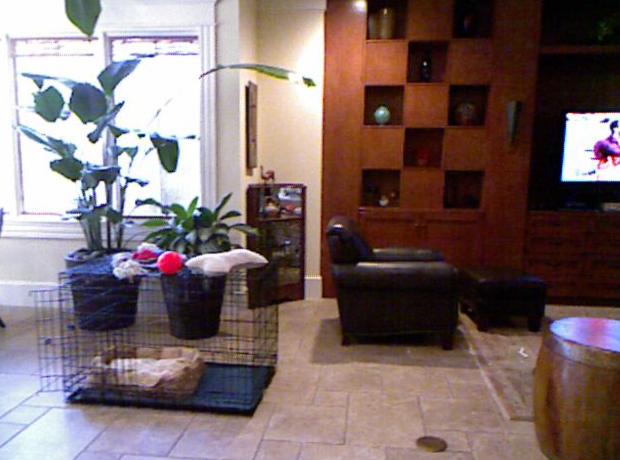couch: (335, 225, 453, 335), (462, 266, 544, 332)
window: (8, 34, 203, 220)
